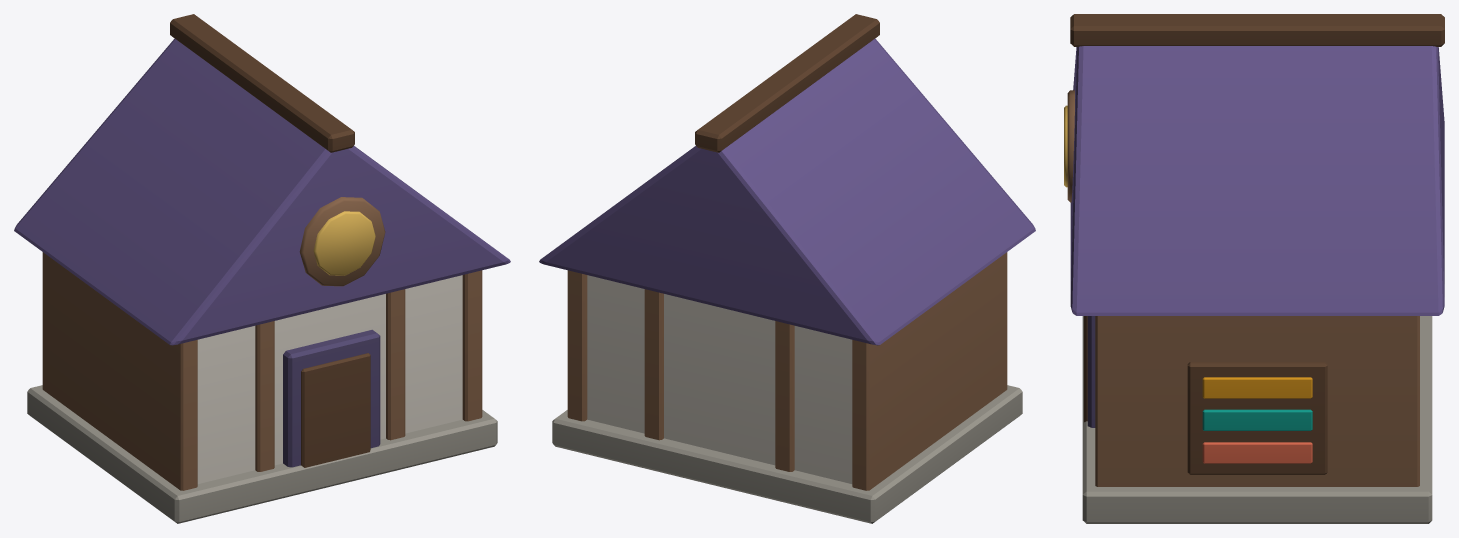
The model's file is library.glb.
3 renders of one model, left to right at view 1: azimuth 30°, elevation 25°; view 2: azimuth 150°, elevation 25°; view 3: azimuth 270°, elevation 25°, orthographic. The views are drawn at different scales.
Visible parts, largest first — view 1: library; view 2: library; view 3: library.
Part boxes in pixels (x1,y1,x2,y2): library: (14,14,510,523); library: (539,14,1035,523); library: (1064,14,1444,523).
Bounding box in the file's own units: 1.8 × 1.8 × 1.5.
